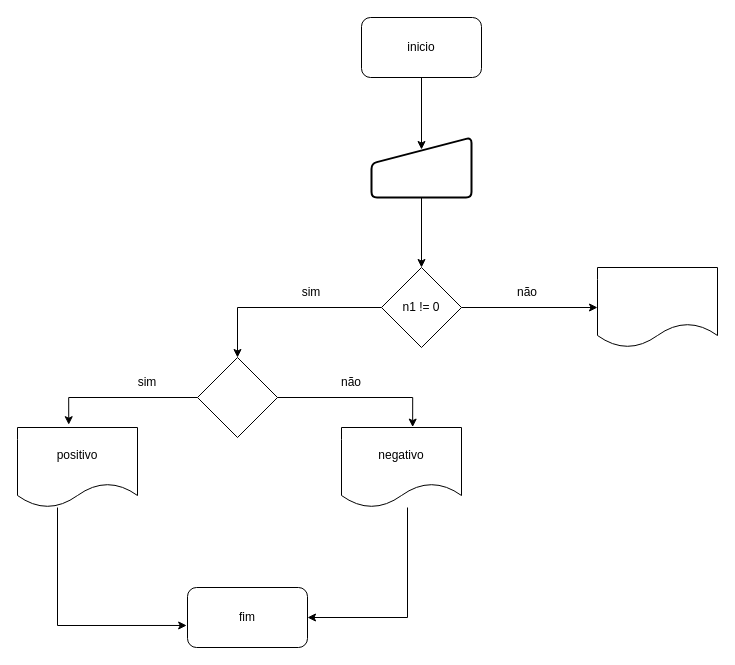
Image size: 735x665. Some labels were removed from this diagram. Each missing label, with the centre of its shape:
n1: the point at 421,167
n1 >0: the point at 237,397
numero deve ser diferente de 0. volte ao início e digite: the point at 657,307
